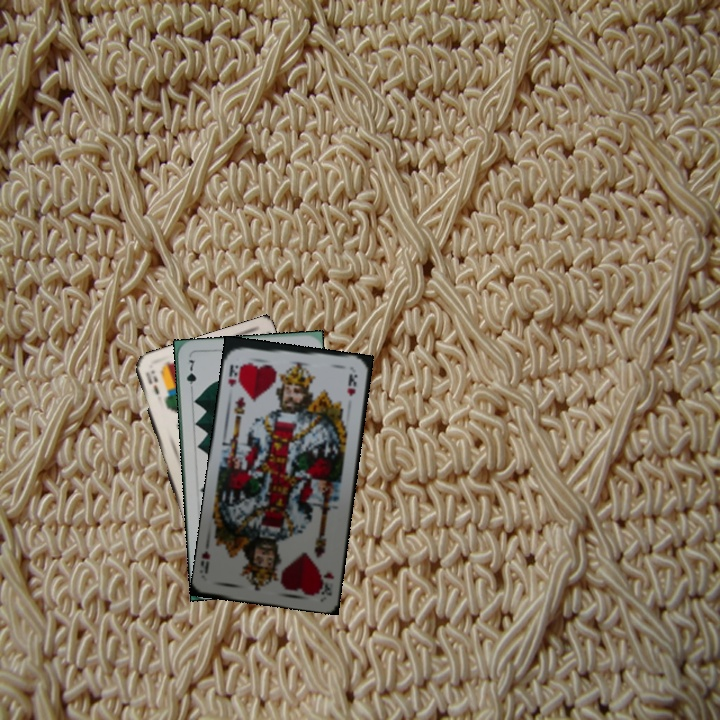EK: (142, 366, 162, 398)
G7: (183, 356, 199, 395)
HK: (316, 568, 336, 597), (224, 360, 241, 389)
